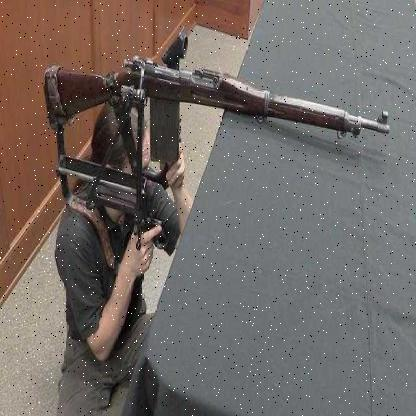rifle: (37, 24, 392, 191)
